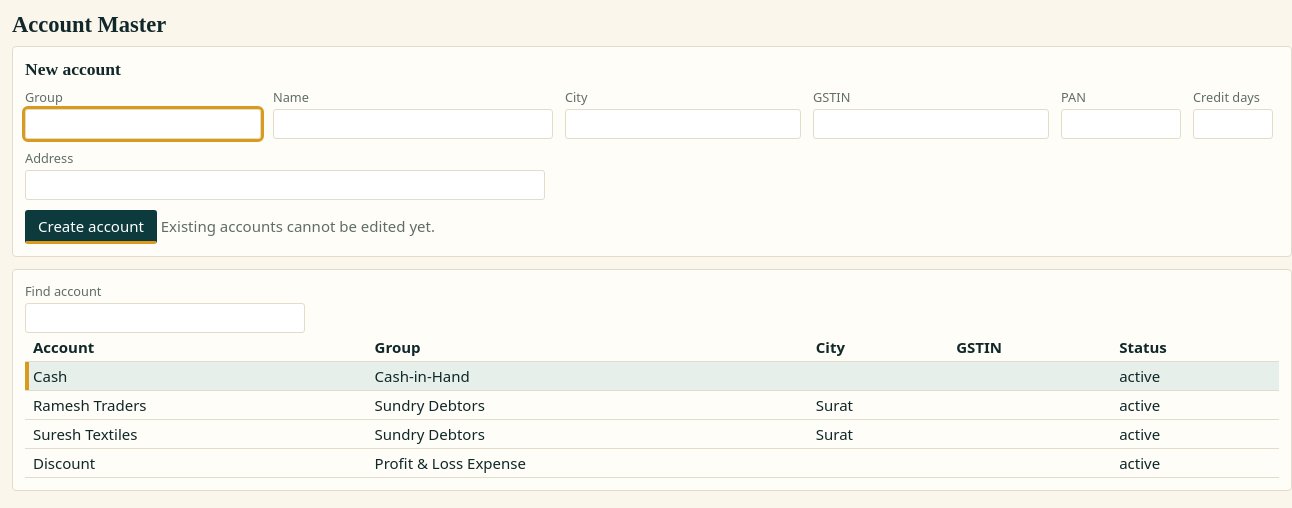
Test: LedgerScreen › only accepts whole numbers of credit days
This screenshot has width=1292, height=508.
Expected: the table named "Accounts" is shown, [25,333,1279,478]
Type "4a5." into the field labelled "Credit days".
click(1233, 124); type("4a5.")  # box [1193,109,1273,139]
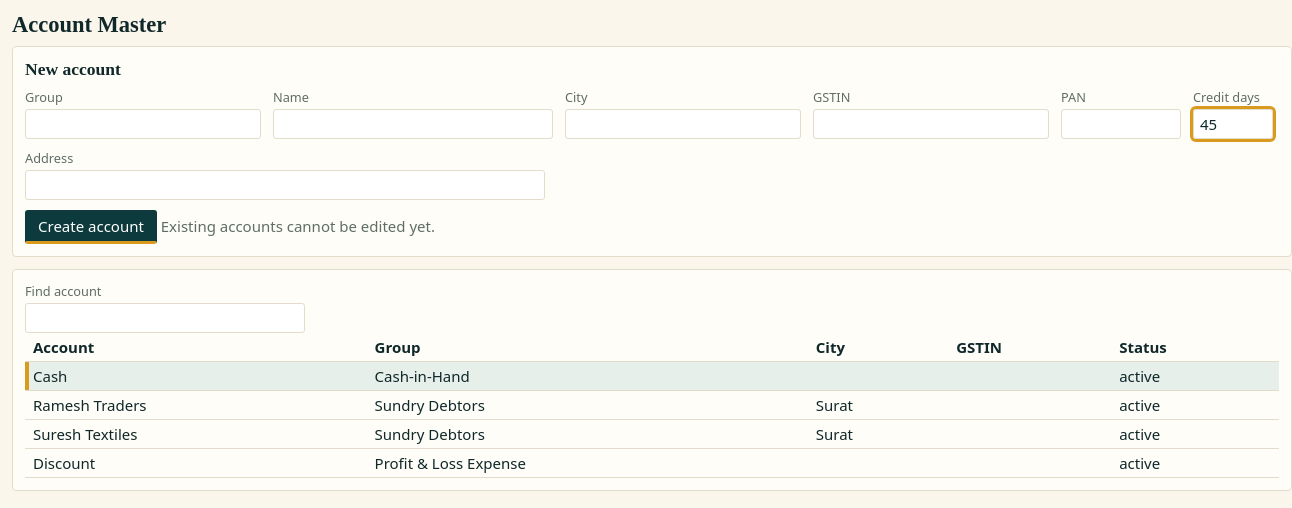
Expected: the field labelled "Credit days" holds "45", [1193,109,1273,139]
